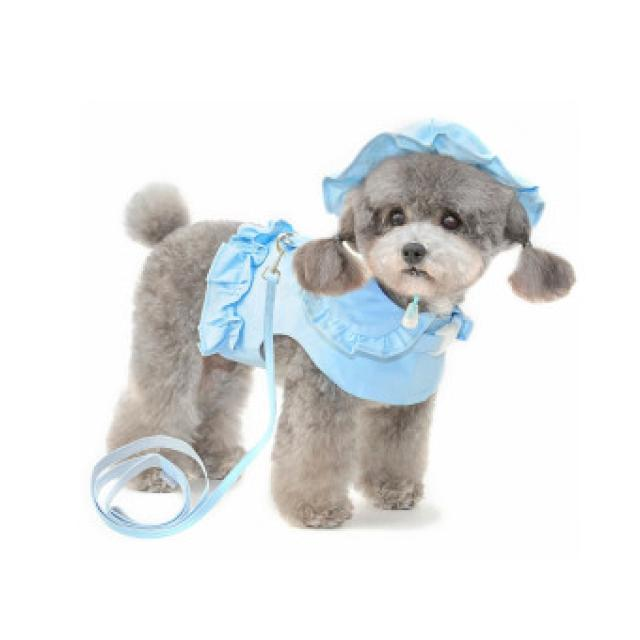cloth: (199, 220, 472, 405)
